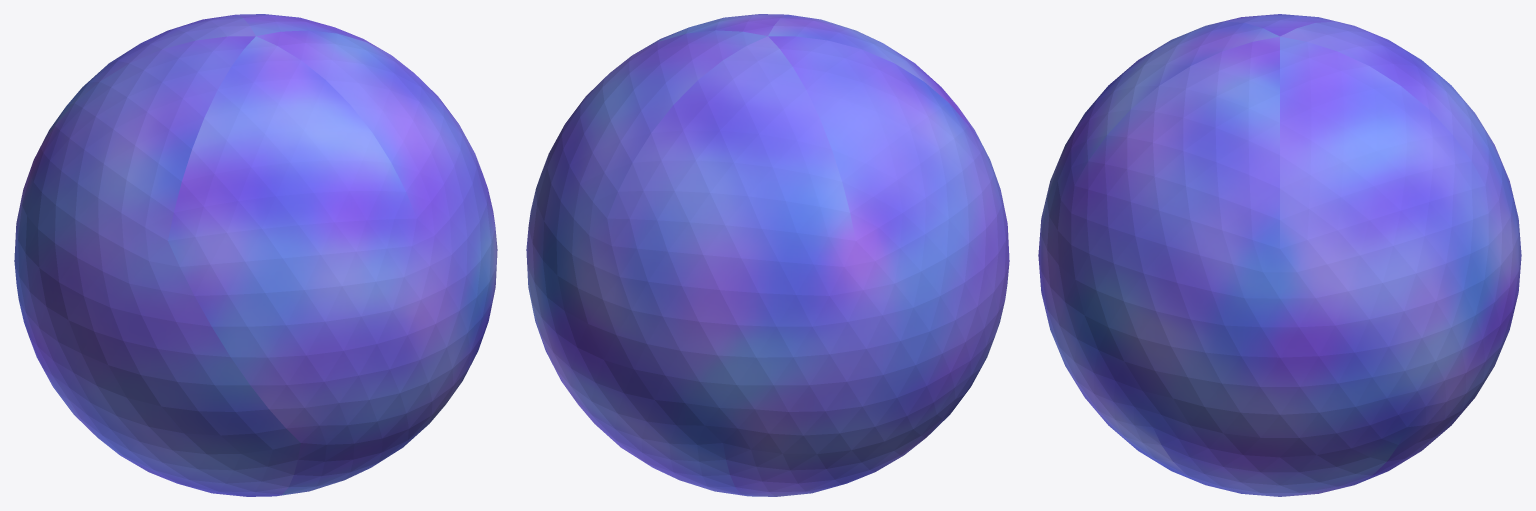
The model's file is Ball.obj.
3 renders of one model, left to right at view 1: azimuth 30°, elevation 25°; view 2: azimuth 150°, elevation 25°; view 3: azimuth 270°, elevation 25°, orthographic.
Size of the model in its own units: 2 by 2 by 2.
Materials: 1 (1 with a texture image).
